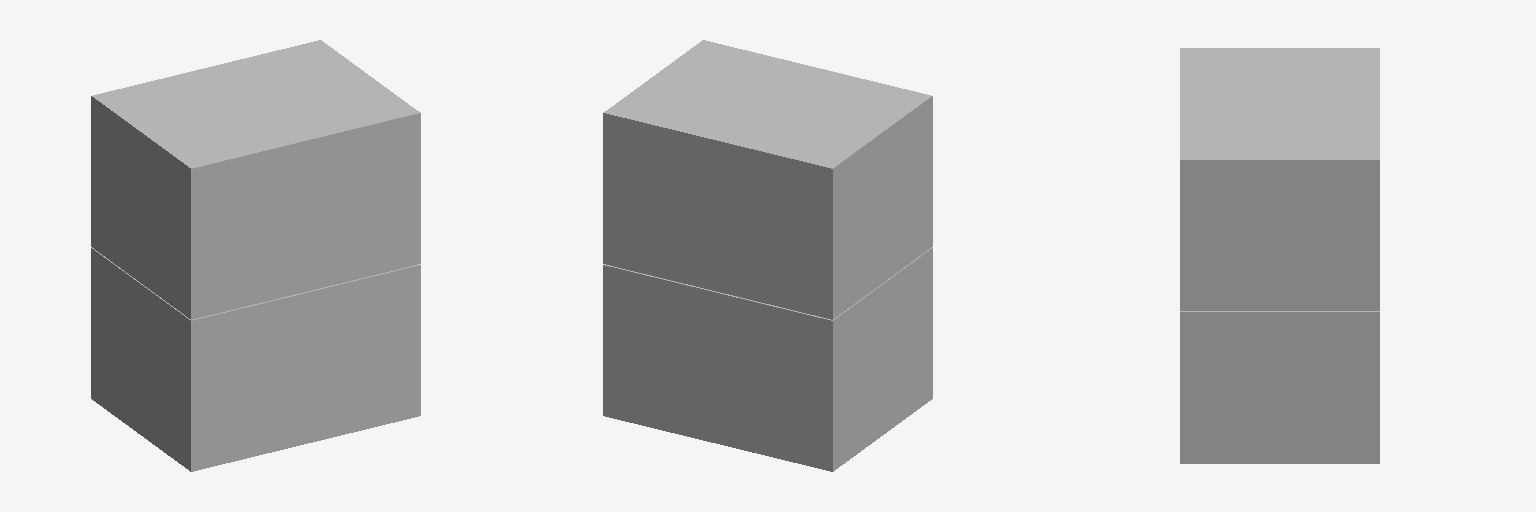
Rendered from b_Glass.obj.
The picture shows the model from 3 angles: view 1: azimuth 30°, elevation 25°; view 2: azimuth 150°, elevation 25°; view 3: azimuth 270°, elevation 25°; orthographic projection.
Parts seen in each view (by area): view 1: pCube70; view 2: pCube70; view 3: pCube70.
Part boxes in pixels (left/top/right/bottom): pCube70: left=91, top=40, right=420, bottom=471; pCube70: left=603, top=40, right=932, bottom=471; pCube70: left=1180, top=48, right=1379, bottom=463.
Size of the model in its own units: 8.1 by 10.24 by 6.1.